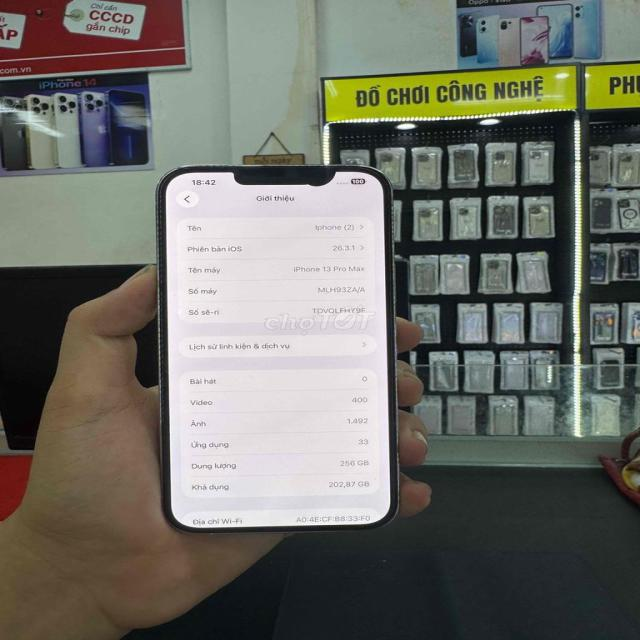gen_12_13: (155, 163, 412, 536)
